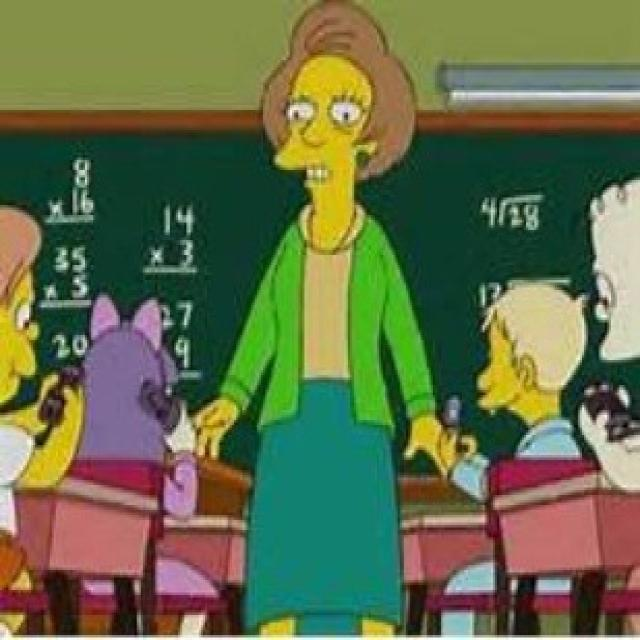Edna Krappel: (254, 0, 422, 255)
